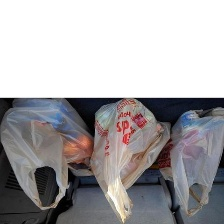plastic_bag: (0, 95, 97, 212), (88, 96, 175, 224), (154, 103, 224, 224)
